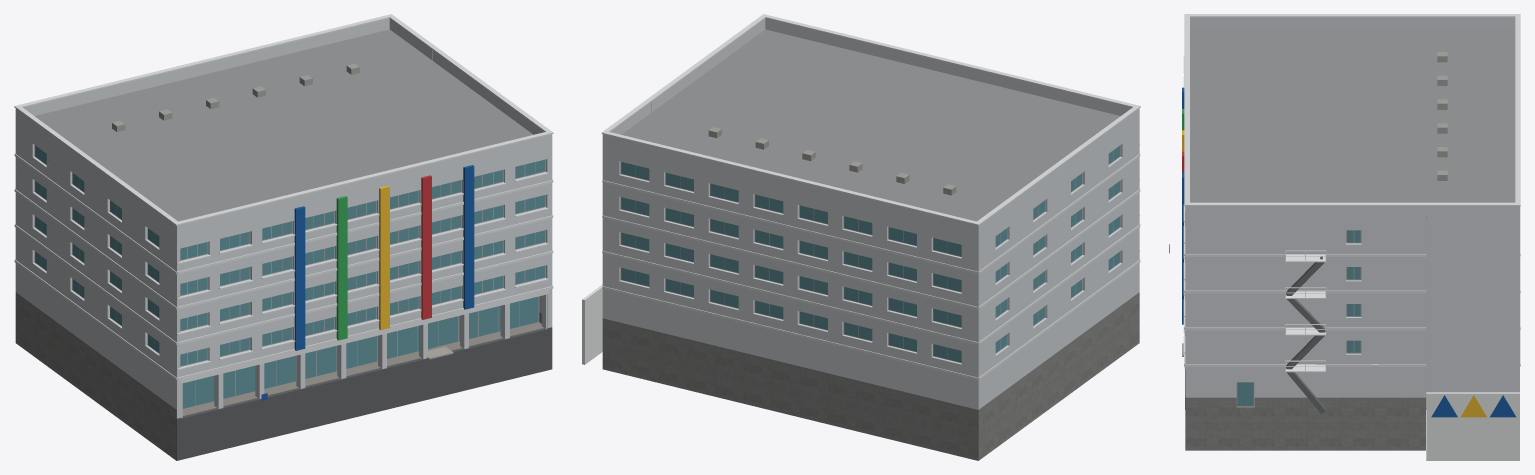
3 views of the same model, side by side, from view 1: azimuth 30°, elevation 25°; view 2: azimuth 150°, elevation 25°; view 3: azimuth 270°, elevation 25° (orthographic). The views are drawn at different scales.
Parts seen in each view (by area): view 1: w451575565__panel-wall, w451575565__roof, w451575565__trim, w451575565__stone-wall, w451575565__glass, w451575565__plinth-wall, w451575565__door-glass, w451575565__frame, w451575565__col-blue, w451575565__column, w451575565__floor-slab, w451575565__col-green (+3 smaller); view 2: w451575565__panel-wall, w451575565__roof, w451575565__plinth-wall, w451575565__glass, w451575565__trim, w451575565__frame, w451575565__mural-white, w451575565__ac; view 3: w451575565__panel-wall, w451575565__roof, w451575565__plinth-wall, w451575565__trim, w451575565__mural-white, w451575565__steel-white, w451575565__rail, w451575565__col-blue, w451575565__ac, w451575565__glass, w451575565__frame, w451575565__door-glass (+1 smaller).
Part boxes in pixels (bbox=[...]): w451575565__panel-wall: bbox=[15, 18, 552, 418]; w451575565__roof: bbox=[34, 29, 533, 221]; w451575565__trim: bbox=[14, 14, 553, 383]; w451575565__stone-wall: bbox=[176, 327, 552, 460]; w451575565__glass: bbox=[35, 146, 545, 366]; w451575565__plinth-wall: bbox=[15, 292, 541, 460]; w451575565__door-glass: bbox=[182, 296, 538, 408]; w451575565__frame: bbox=[34, 145, 545, 409]; w451575565__col-blue: bbox=[294, 165, 474, 350]; w451575565__column: bbox=[181, 294, 547, 417]; w451575565__floor-slab: bbox=[182, 322, 543, 415]; w451575565__col-green: bbox=[336, 196, 347, 340]; w451575565__panel-wall: bbox=[602, 18, 1139, 409]; w451575565__roof: bbox=[621, 29, 1120, 221]; w451575565__plinth-wall: bbox=[602, 292, 1139, 460]; w451575565__glass: bbox=[621, 145, 1119, 362]; w451575565__trim: bbox=[601, 14, 1140, 380]; w451575565__frame: bbox=[620, 145, 1120, 363]; w451575565__mural-white: bbox=[582, 284, 602, 364]; w451575565__ac: bbox=[708, 127, 956, 195]; w451575565__panel-wall: bbox=[1185, 17, 1519, 397]; w451575565__roof: bbox=[1190, 29, 1515, 218]; w451575565__plinth-wall: bbox=[1185, 397, 1425, 450]; w451575565__trim: bbox=[1183, 14, 1520, 368]; w451575565__mural-white: bbox=[1426, 392, 1519, 460]; w451575565__steel-white: bbox=[1285, 250, 1326, 372]; w451575565__rail: bbox=[1286, 256, 1325, 413]; w451575565__col-blue: bbox=[1182, 87, 1515, 417]; w451575565__ac: bbox=[1437, 52, 1447, 180]; w451575565__glass: bbox=[1347, 230, 1360, 352]; w451575565__frame: bbox=[1236, 230, 1361, 406]; w451575565__door-glass: bbox=[1237, 382, 1253, 405].
Bounding box in the file's own units: 42.38 × 24.12 × 31.27.
Materials: 21 (1 with a texture image).
